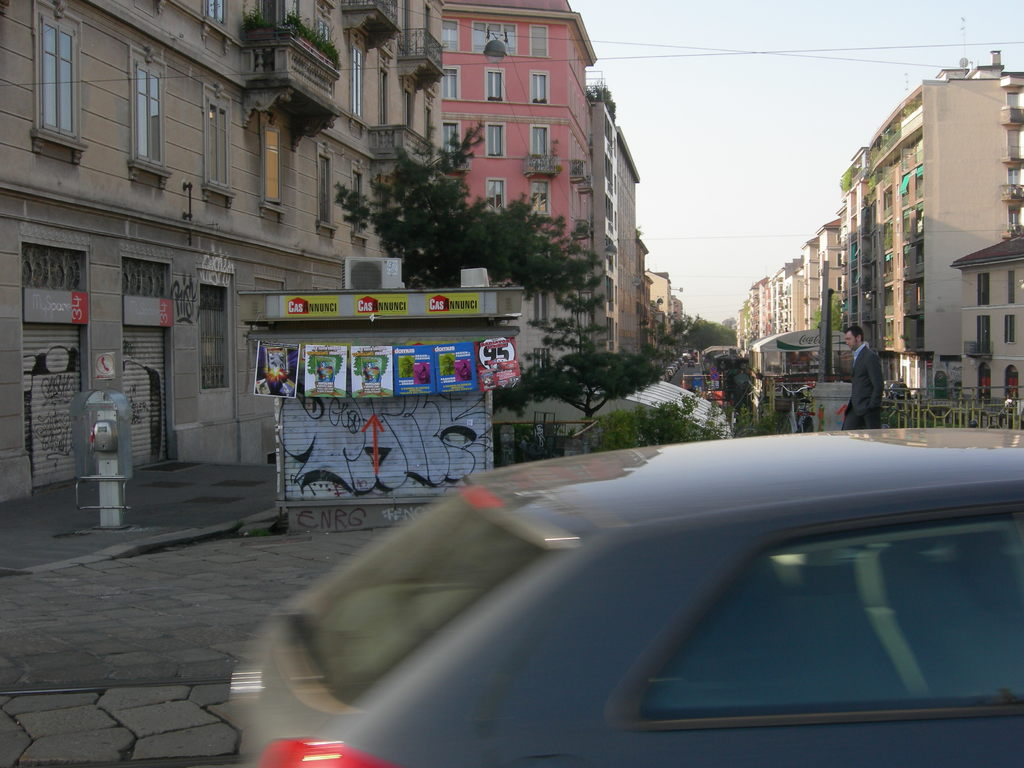Car: (227, 426, 1023, 767), (658, 357, 683, 382), (887, 381, 910, 401), (687, 360, 695, 367)
